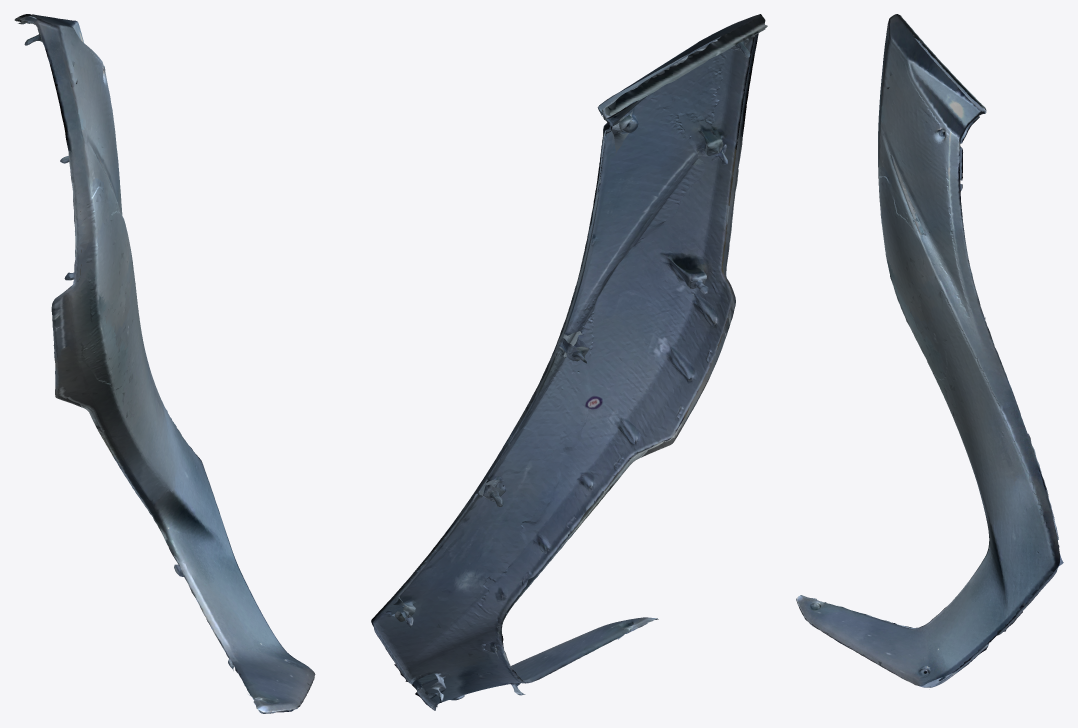
File: SPD-43333X-B.obj
3 views of the same model, side by side, from view 1: azimuth 30°, elevation 25°; view 2: azimuth 150°, elevation 25°; view 3: azimuth 270°, elevation 25° (orthographic). The views are drawn at different scales.
Visible parts, largest first — view 1: SPD-43333X-B; view 2: SPD-43333X-B; view 3: SPD-43333X-B.
Part boxes in pixels (x1,y1,x2,y2): SPD-43333X-B: [14, 14, 315, 713]; SPD-43333X-B: [371, 14, 767, 710]; SPD-43333X-B: [796, 14, 1063, 687].
Bounding box in the file's own units: 376 × 849 × 354.
Materials: 1 (1 with a texture image).
